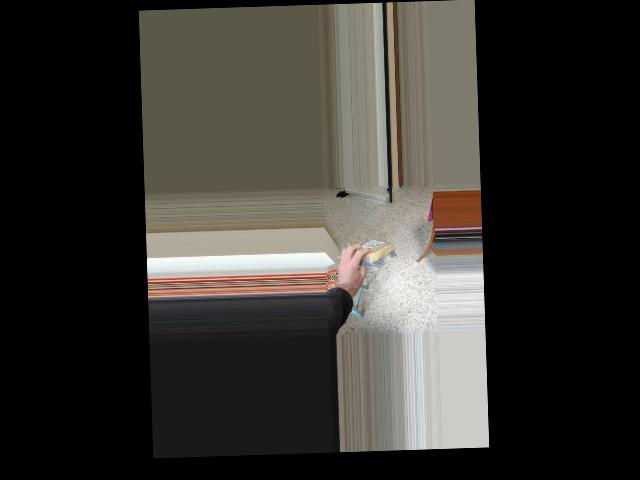cheese: (344, 236, 398, 270)
